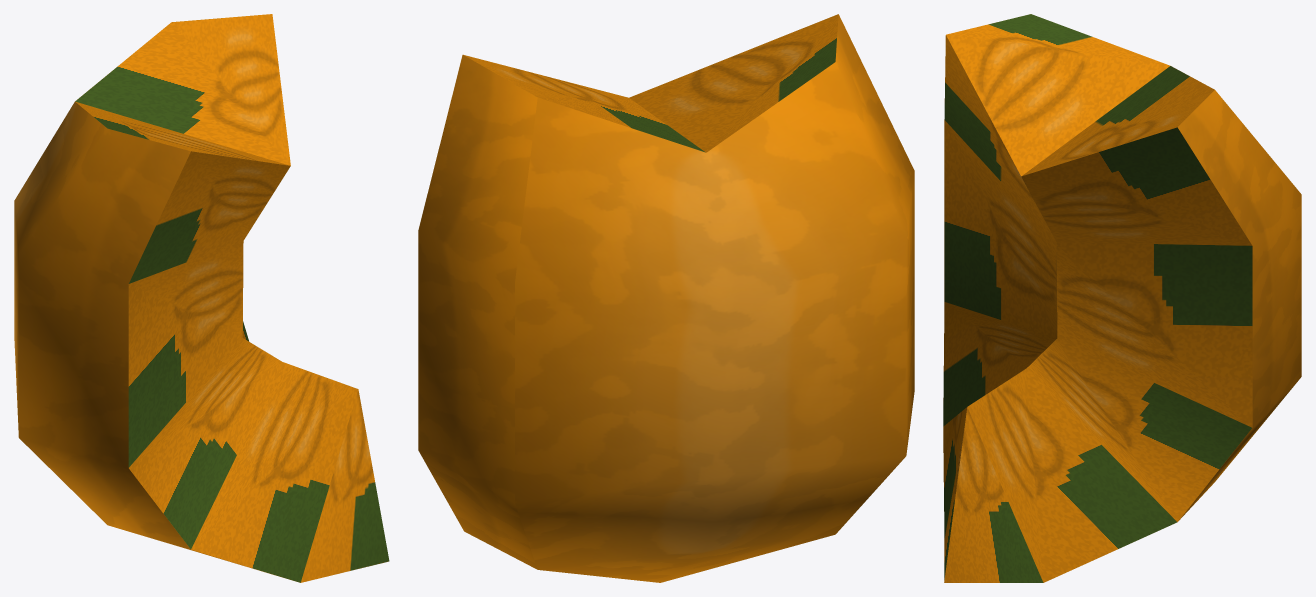
Rendered from Pumpkin_but_good.fbx.
3 views of the same model, side by side, from view 1: azimuth 30°, elevation 25°; view 2: azimuth 150°, elevation 25°; view 3: azimuth 270°, elevation 25° (orthographic). The views are drawn at different scales.
Visible parts, largest first — view 1: polySurface6; view 2: polySurface6; view 3: polySurface6.
Part boxes in pixels (x1=…): polySurface6: x1=14, y1=14, x2=389, y2=582; polySurface6: x1=418, y1=14, x2=914, y2=582; polySurface6: x1=943, y1=14, x2=1301, y2=582.
Size of the model in its own units: 67.77 by 95.36 by 67.97.
